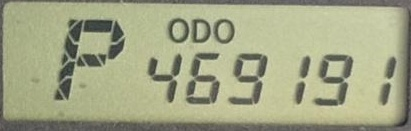1: (376, 54, 397, 108), (291, 54, 310, 105)
4: (146, 52, 183, 104)
6: (185, 52, 222, 105)
9: (312, 54, 354, 107), (227, 52, 268, 106)
X: (50, 17, 126, 102), (213, 18, 235, 44), (167, 18, 189, 43), (191, 18, 210, 44)
